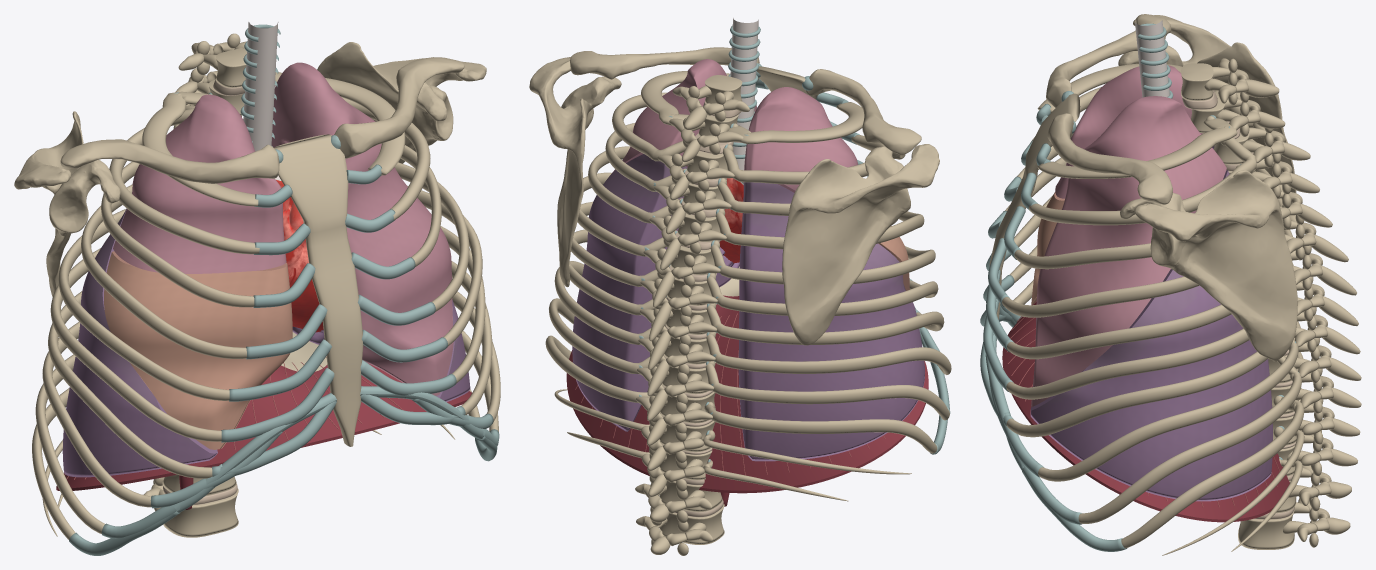
The model's file is pleura-simulacao-aprovada.glb.
The picture shows the model from 3 angles, left to right: view 1: azimuth 30°, elevation 25°; view 2: azimuth 150°, elevation 25°; view 3: azimuth 270°, elevation 25°; orthographic projection. The views are drawn at different scales.
Visible parts, largest first — view 1: lobo_superior_E, lobo_medio_D, lobo_superior_D, caixa_toracica_osso, lobo_inferior_D, diafragma_diafragma, coluna_osso, escapula_D, escapula_E, clavicula_D, clavicula_E, costela_articulada_D_5_osso (+39 smaller); view 2: coluna_osso, lobo_inferior_D, escapula_D, lobo_inferior_E, diafragma_diafragma, escapula_E, lobo_superior_D, costela_articulada_D_9_osso, costela_articulada_D_8_osso, costela_articulada_D_10_osso, costela_articulada_D_7_osso, clavicula_D (+26 smaller); view 3: coluna_osso, lobo_inferior_E, lobo_superior_E, escapula_E, diafragma_diafragma, costela_articulada_E_8_osso, escapula_D, costela_articulada_E_7_osso, costela_articulada_E_9_osso, costela_articulada_E_6_osso, clavicula_E, lobo_superior_D (+23 smaller).
Part boxes in pixels (x1,y1,x2,y2): lobo_superior_E: (271,62,453,395); lobo_medio_D: (104,251,292,449); lobo_superior_D: (113,94,286,273); caixa_toracica_osso: (274,134,363,446); lobo_inferior_D: (62,208,217,477); diafragma_diafragma: (56,363,471,509); coluna_osso: (143,33,246,537); escapula_D: (14,111,120,296); escapula_E: (317,42,486,163); clavicula_D: (60,139,279,183); clavicula_E: (334,57,464,158); costela_articulada_D_5_osso: (58,209,229,400); coluna_osso: (635,75,749,555); lobo_inferior_D: (738,182,924,461); escapula_D: (782,144,939,345); lobo_inferior_E: (572,154,739,431); diafragma_diafragma: (566,295,928,506); escapula_E: (529,57,621,287); lobo_superior_D: (744,87,857,192); costela_articulada_D_9_osso: (705,361,949,420); costela_articulada_D_8_osso: (706,332,951,374); costela_articulada_D_10_osso: (704,402,937,453); costela_articulada_D_7_osso: (706,303,944,344); clavicula_D: (805,69,921,154); coluna_osso: (1181,58,1361,549); lobo_inferior_E: (1030,170,1272,501); lobo_superior_E: (1031,96,1226,407); escapula_E: (1120,170,1297,360); diafragma_diafragma: (1002,302,1289,522); costela_articulada_E_8_osso: (1038,339,1298,481); escapula_D: (1118,15,1296,203); costela_articulada_E_7_osso: (1006,351,1267,437); costela_articulada_E_9_osso: (1078,356,1301,523); costela_articulada_E_6_osso: (1006,328,1249,399); clavicula_E: (1047,113,1172,204); lobo_superior_D: (1055,65,1202,198).
Size of the model in its own units: 0.3052 by 0.3483 by 0.231.
Materials: 14 (1 with a texture image).
